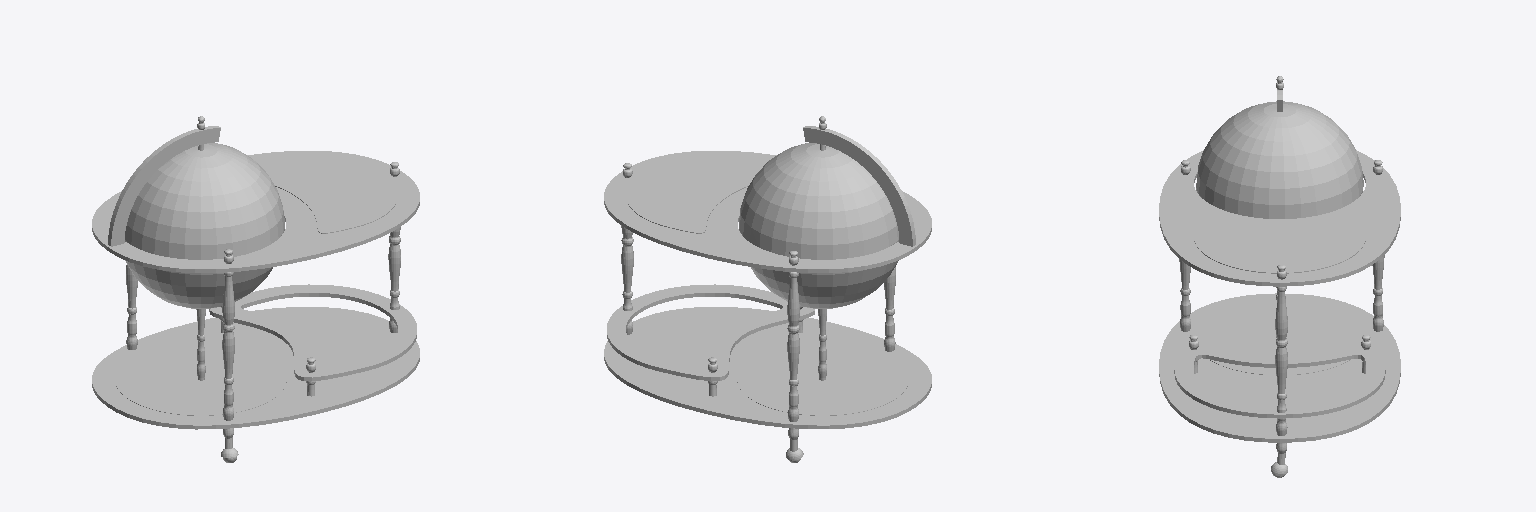
Rendered from bar-stand-globe.obj.
3 renders of one model, left to right at view 1: azimuth 30°, elevation 25°; view 2: azimuth 150°, elevation 25°; view 3: azimuth 270°, elevation 25°, orthographic.
Parts seen in each view (by area): view 1: Sphere01, Ellipse01, Ellipse02, Circle02, Circle03, Circle01, Arc01, 01, 08, 04, _____01; view 2: Sphere01, Ellipse01, Ellipse02, Circle02, Circle03, Circle01, Arc01, 04, 08, 01, _____01; view 3: Sphere01, Ellipse01, Ellipse02, Circle02, Circle03, Circle01, 08, 04, 01.
Boxes of the visible parts, box(x1,y1,x2,y2) form: Sphere01: box(125, 143, 284, 308); Ellipse01: box(92, 307, 419, 429); Ellipse02: box(92, 151, 419, 272); Circle02: box(115, 343, 286, 415); Circle03: box(261, 159, 397, 233); Circle01: box(209, 284, 416, 380); Arc01: box(108, 126, 220, 246); 01: box(222, 249, 234, 448); 08: box(220, 162, 400, 332); 04: box(126, 265, 137, 349); _____01: box(196, 116, 205, 380); Sphere01: box(739, 143, 898, 308); Ellipse01: box(604, 307, 931, 428); Ellipse02: box(604, 151, 931, 272); Circle02: box(737, 343, 908, 415); Circle03: box(626, 159, 762, 233); Circle01: box(607, 284, 814, 380); Arc01: box(803, 126, 915, 246); 04: box(787, 251, 799, 451); 08: box(621, 163, 717, 396); 01: box(884, 267, 895, 351); _____01: box(818, 116, 826, 380); Sphere01: box(1196, 101, 1363, 218); Ellipse01: box(1159, 293, 1400, 442); Ellipse02: box(1159, 150, 1400, 286); Circle02: box(1195, 303, 1364, 374); Circle03: box(1194, 221, 1365, 273); Circle01: box(1174, 342, 1385, 418); 08: box(1275, 265, 1370, 464); 04: box(1372, 160, 1384, 331); 01: box(1179, 160, 1190, 331).
Bounding box in the file's own units: 31.49 × 30.86 × 22.16.